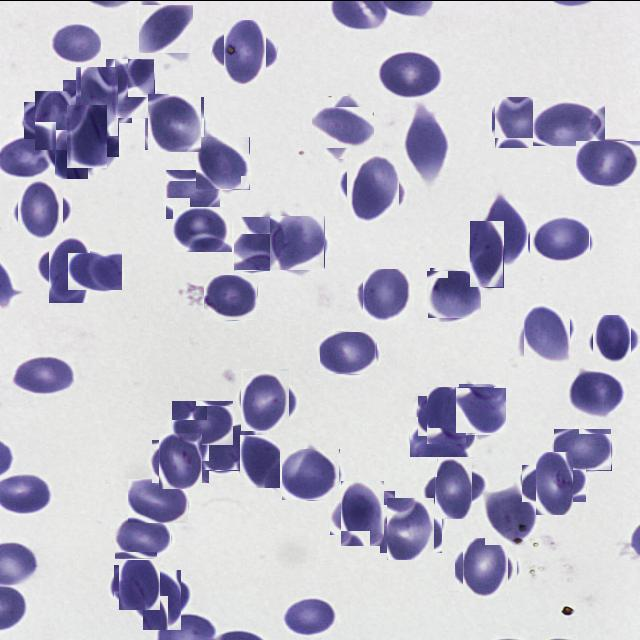red blood cell: (342, 158, 403, 218), (374, 50, 447, 98), (405, 105, 447, 183), (533, 99, 605, 144), (528, 214, 590, 266), (484, 192, 530, 262), (146, 94, 202, 150), (237, 371, 293, 426), (70, 73, 126, 128), (270, 215, 325, 270), (384, 500, 438, 556), (282, 448, 340, 500), (106, 58, 155, 118), (336, 485, 390, 539), (42, 241, 96, 295), (520, 306, 574, 360), (234, 216, 288, 270), (459, 540, 513, 594), (13, 184, 68, 237), (485, 486, 535, 544), (196, 136, 250, 189), (218, 24, 271, 78), (576, 140, 640, 184), (362, 268, 414, 322), (172, 400, 234, 445), (318, 100, 370, 152), (61, 110, 113, 162), (166, 169, 221, 218), (173, 206, 232, 251), (140, 2, 192, 53), (528, 457, 580, 508), (128, 478, 188, 522), (428, 268, 479, 319), (410, 416, 475, 456), (156, 436, 206, 486), (204, 274, 258, 320), (493, 96, 542, 146), (137, 574, 186, 624), (554, 428, 612, 470), (198, 425, 252, 470), (429, 463, 478, 512), (29, 95, 78, 144), (320, 331, 377, 373), (115, 516, 171, 558), (283, 593, 338, 635), (458, 384, 506, 432), (470, 220, 504, 287), (46, 22, 100, 64), (13, 356, 76, 392), (422, 391, 470, 438), (571, 370, 622, 414), (240, 434, 280, 487), (116, 562, 162, 608), (68, 252, 123, 290), (590, 317, 634, 361), (50, 131, 93, 173)
